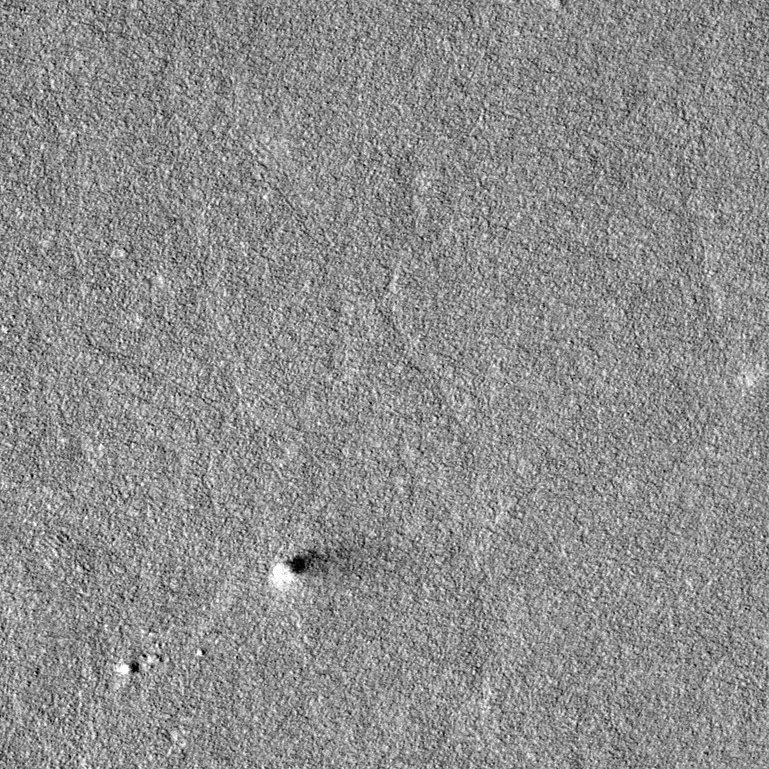dust_devil: (262, 544, 365, 592)
